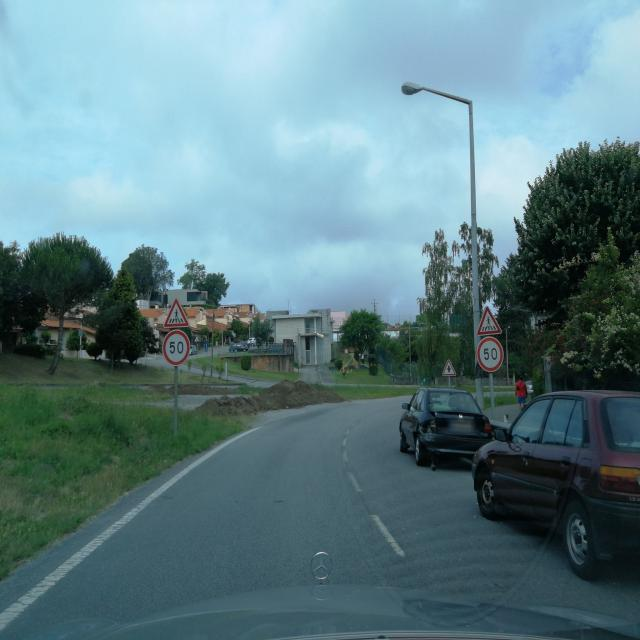car: (471, 389, 640, 579), (399, 386, 492, 466), (189, 344, 198, 356)
